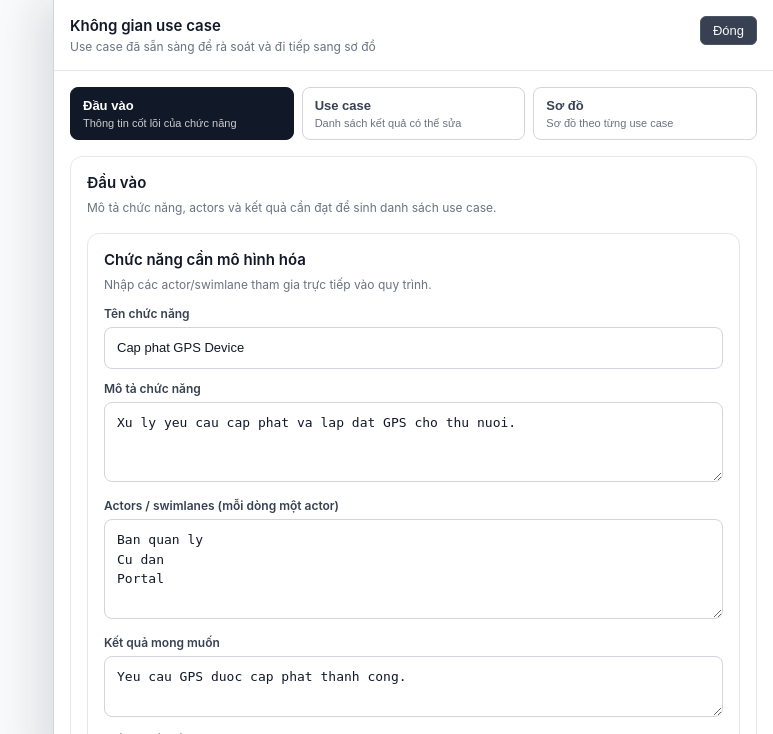
Test case: UseCasePanel › shows AI source with the prompt version
Click the button "Use case Danh sách kết quả có thể sửa": (414, 114) [302,87,525,140]
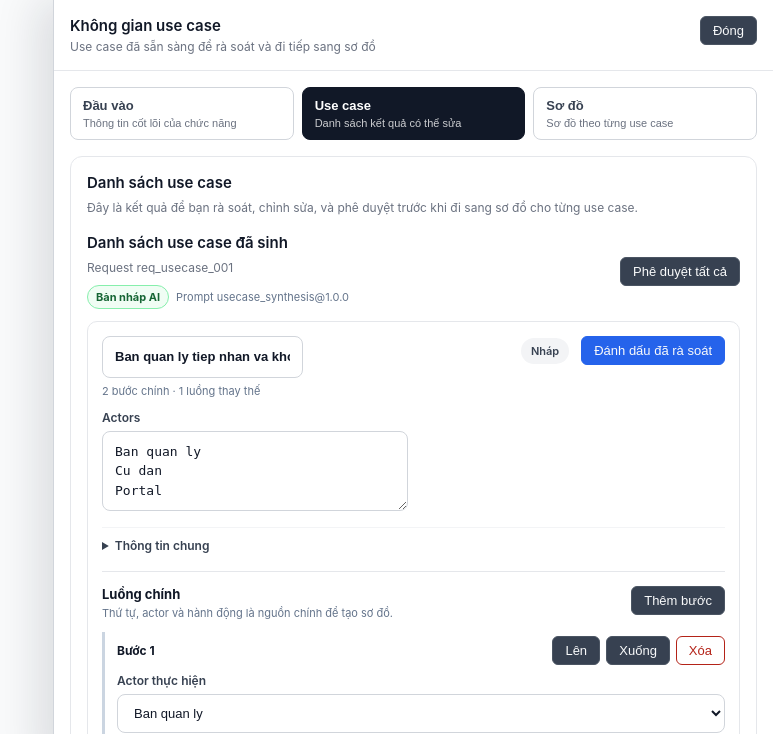
expect the text "Bản nháp AI" is shown: met, box [87,285,169,309]
expect the text "Prompt usecase_synthesis@1.0.0" is shown: met, box [176,290,349,304]
